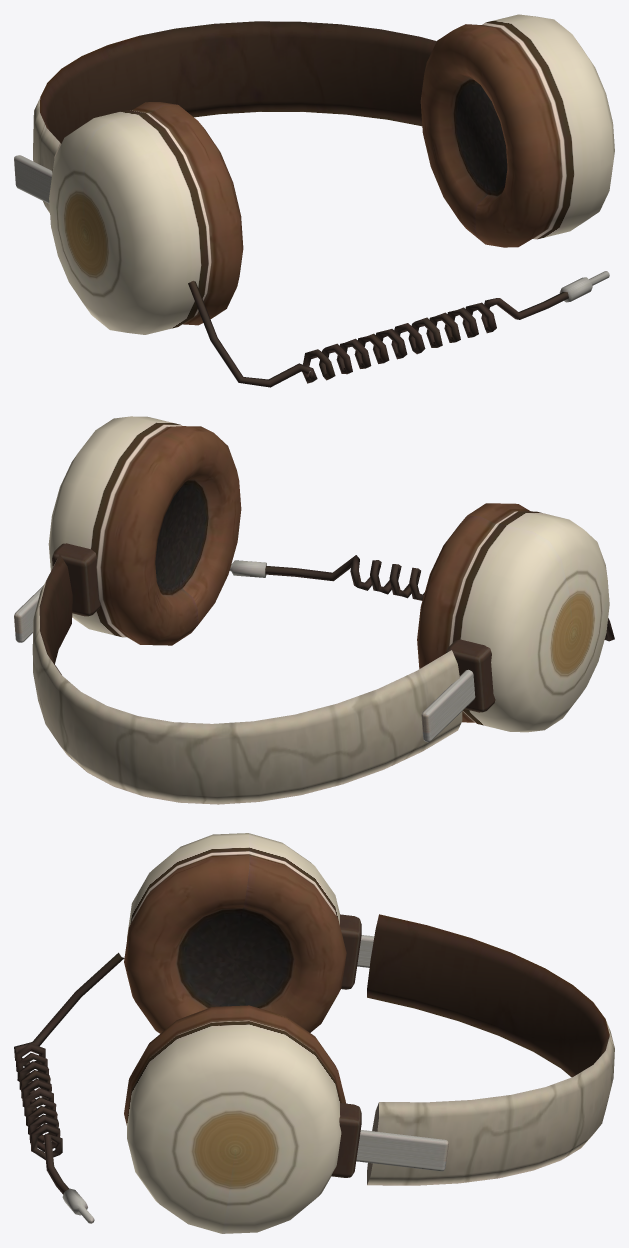
The model's file is headphones.glb.
The picture shows the model from 3 angles, top to bottom: view 1: azimuth 30°, elevation 25°; view 2: azimuth 150°, elevation 25°; view 3: azimuth 270°, elevation 25°; orthographic projection. The views are drawn at different scales.
Parts seen in each view (by area): view 1: headphones_body, headphones_sliders; view 2: headphones_body, headphones_sliders; view 3: headphones_body, headphones_sliders.
Boxes of the visible parts, left/top/right/bottom form: headphones_body: left=33, top=14, right=614, bottom=387; headphones_sliders: left=14, top=155, right=609, bottom=302; headphones_body: left=32, top=416, right=614, bottom=804; headphones_sliders: left=14, top=560, right=475, bottom=742; headphones_body: left=14, top=833, right=614, bottom=1233; headphones_sliders: left=62, top=935, right=448, bottom=1223.
Bounding box in the file's own units: 1.79 × 0.7139 × 1.94.
Materials: 2 (2 with a texture image).
